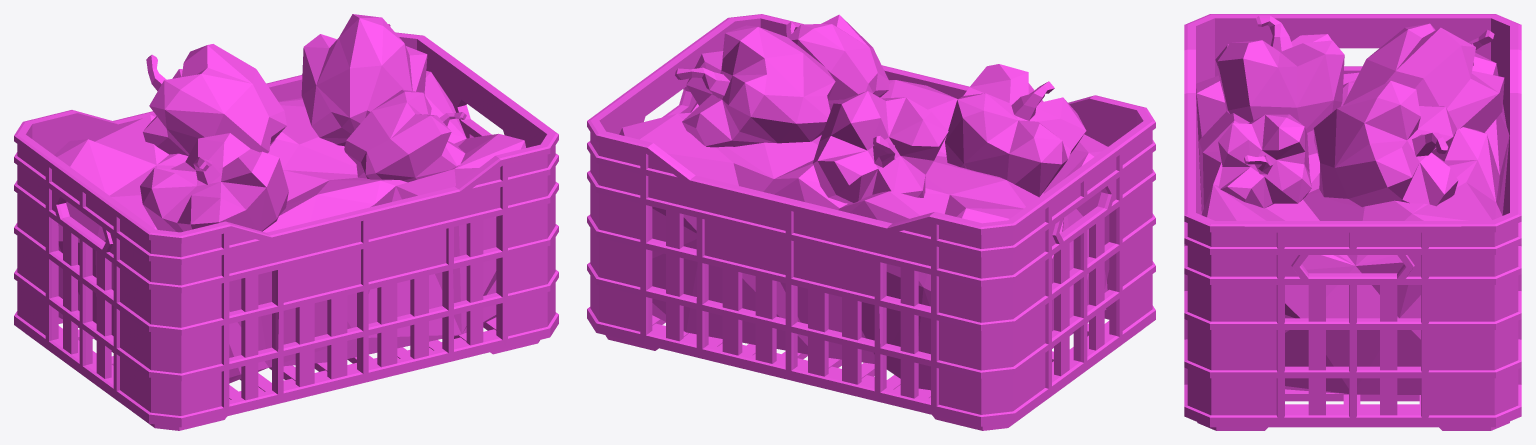
File: SM_Crate_Plastic_Medium_Peppers.fbx
3 renders of one model, left to right at view 1: azimuth 30°, elevation 25°; view 2: azimuth 150°, elevation 25°; view 3: azimuth 270°, elevation 25°, orthographic. The views are drawn at different scales.
Visible parts, largest first — view 1: SM_Crate_Plastic_Medium_Peppers; view 2: SM_Crate_Plastic_Medium_Peppers; view 3: SM_Crate_Plastic_Medium_Peppers.
Part boxes in pixels (left/top/right/bottom): SM_Crate_Plastic_Medium_Peppers: left=14, top=14, right=558, bottom=430; SM_Crate_Plastic_Medium_Peppers: left=587, top=14, right=1155, bottom=430; SM_Crate_Plastic_Medium_Peppers: left=1184, top=14, right=1521, bottom=430.
Size of the model in its own units: 0.6083 by 0.3963 by 0.4083.
